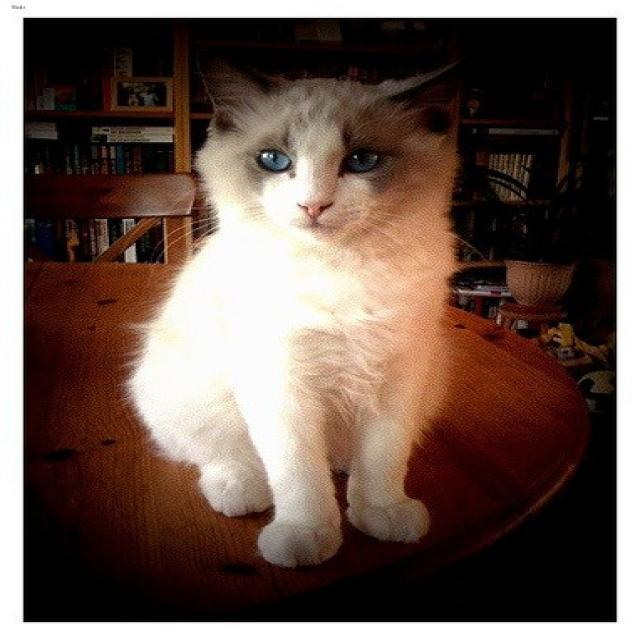Ragdoll: (172, 28, 506, 261)
